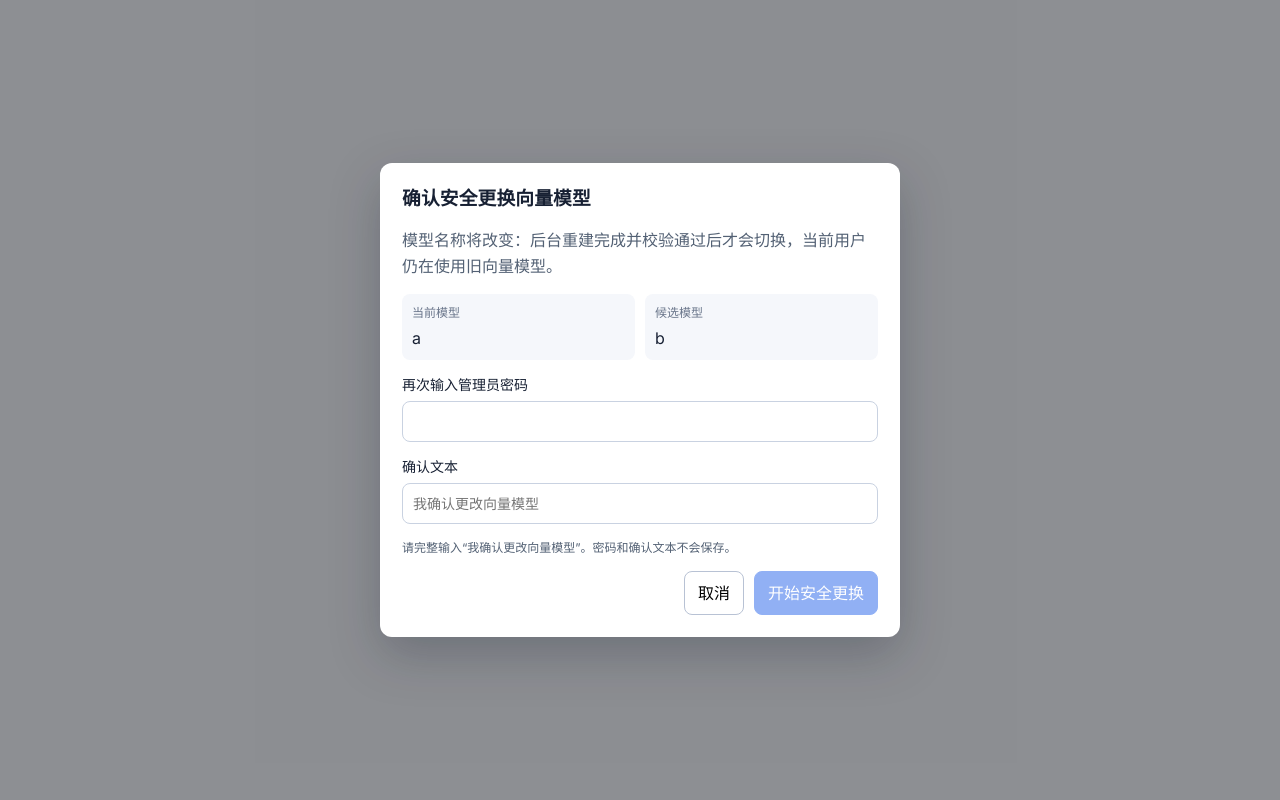
Test: EmbeddingModelChangeDialog › requires both password and the exact Chinese confirmation phrase
Type "secret" into the password field labelled "再次输入管理员密码".
click(640, 421); type("secret")  # box [402,400,878,442]
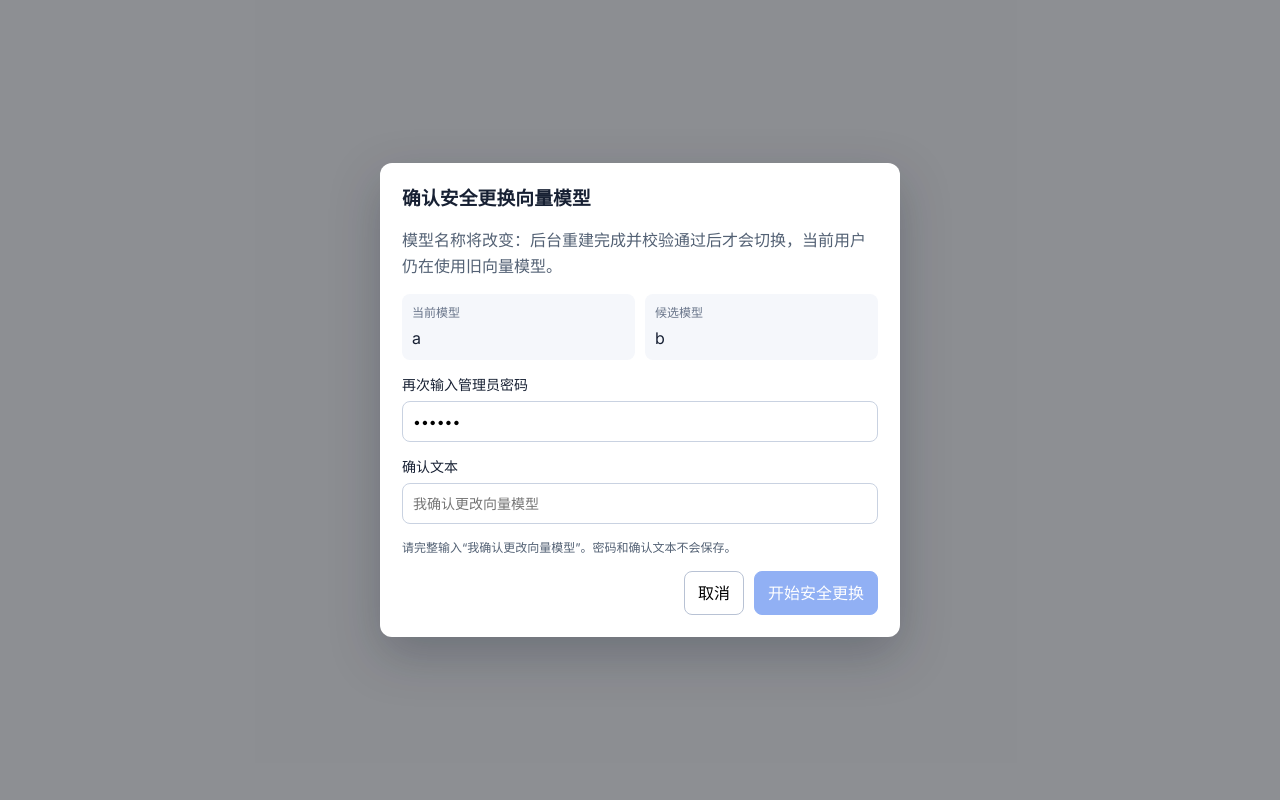
Type "我确认修改向量模型" into the field labelled "确认文本".
click(640, 503); type("我确认修改向量模型")  # box [402,482,878,524]
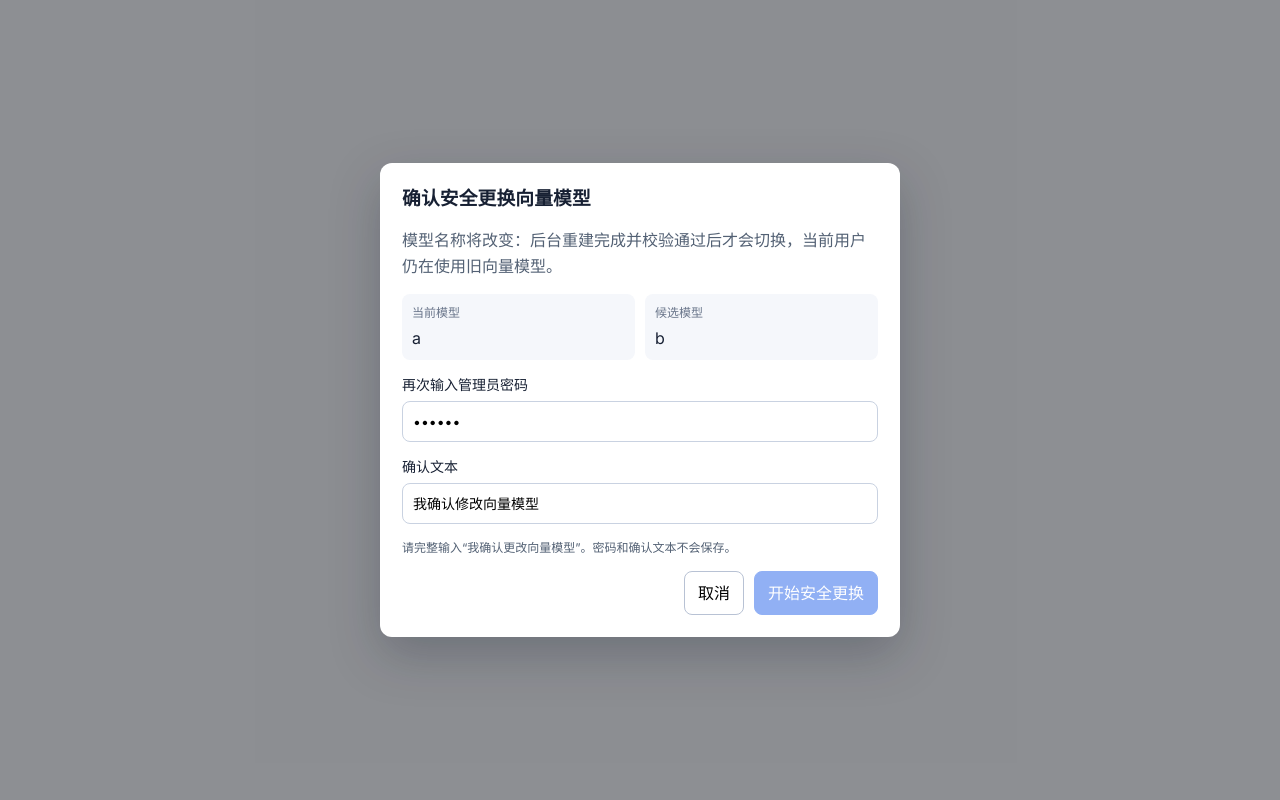
Expected: the button "开始安全更换" is disabled, [754,571,878,615]
Replace the text in the field labelled "确认文本" with "我确认更改向量模型" at (640, 503), box [402,482,878,524]
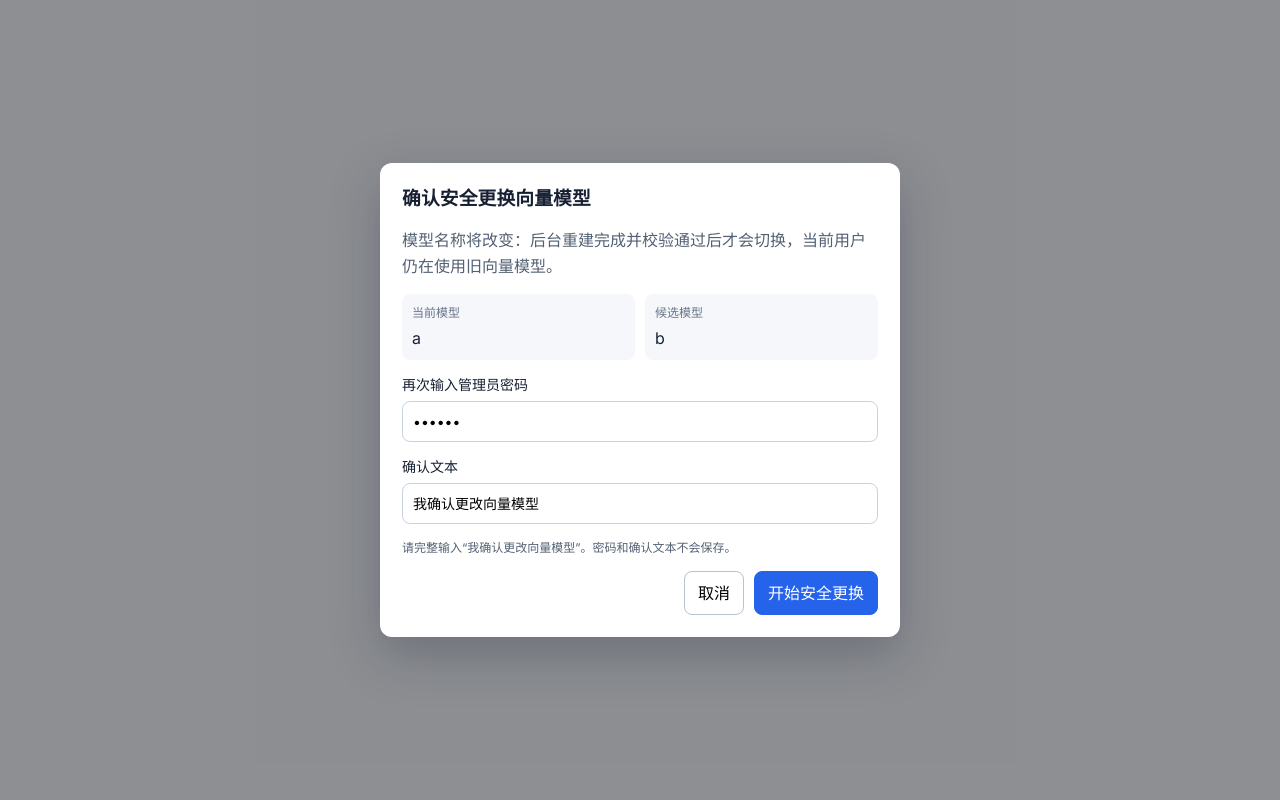
Expected: the button "开始安全更换" is enabled, [754,571,878,615]
